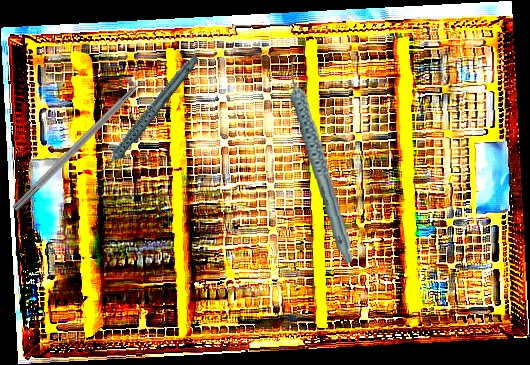Handpiece: (73, 53, 220, 178), (288, 53, 354, 266)
Hook Surgical: (11, 61, 163, 213)
